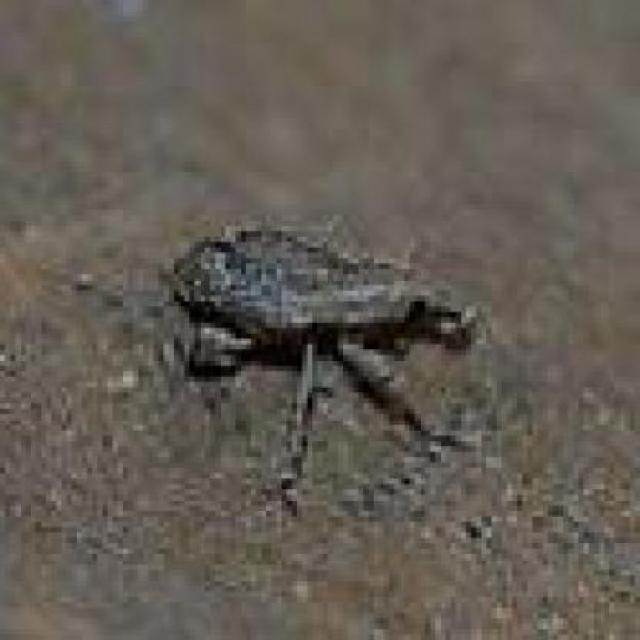rice-bug: (169, 224, 469, 473)
